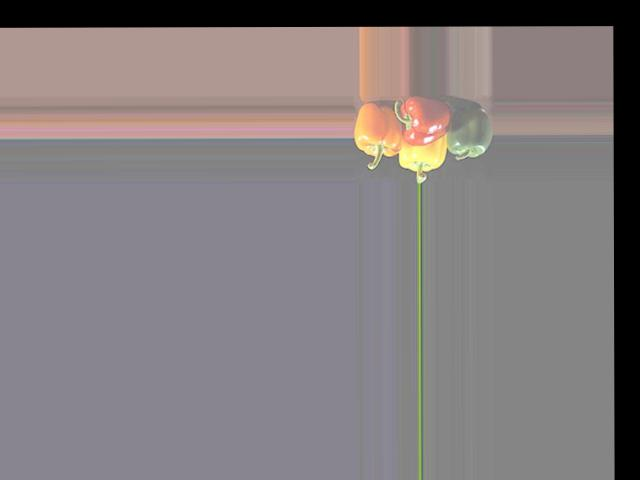bell_pepper: (354, 94, 404, 163)
